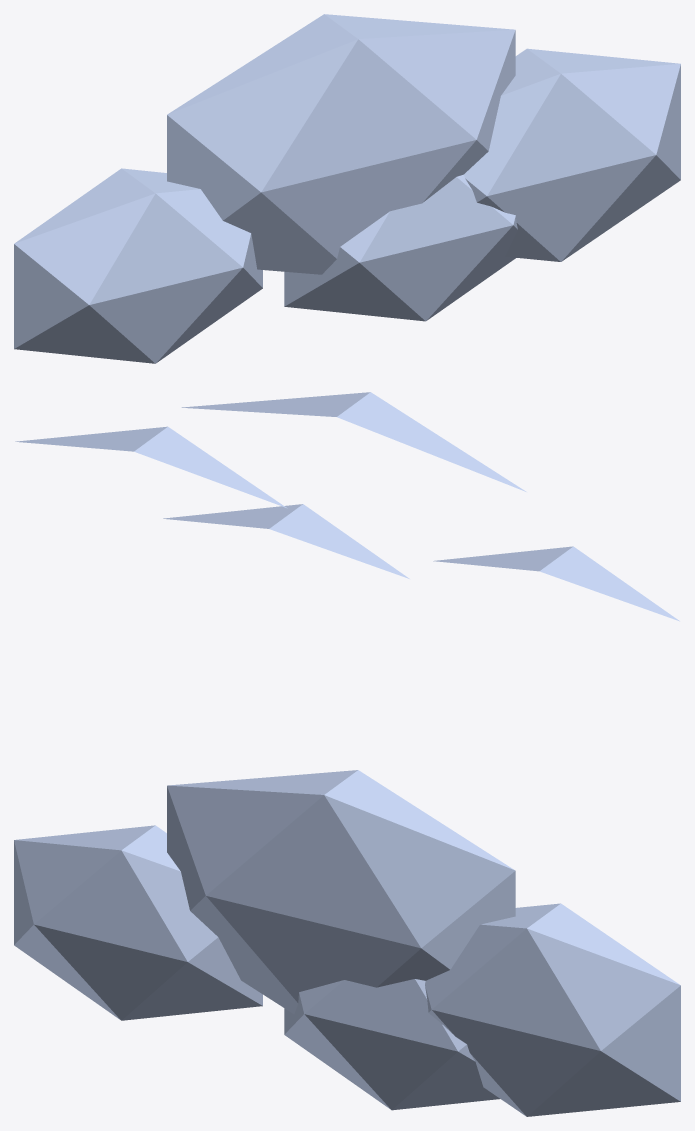
File: cloud.glb
3 views of the same model, one above another, from view 1: azimuth 30°, elevation 25°; view 2: azimuth 150°, elevation 25°; view 3: azimuth 330°, elevation 25° (orthographic).
Visible parts, largest first — view 1: Cloud; view 2: Cloud; view 3: Cloud.
Part boxes in pixels (x1,y1,x2,y2): Cloud: [14, 14, 680, 363]; Cloud: [15, 392, 679, 621]; Cloud: [14, 770, 680, 1116].
Bounding box in the file's own units: 2.96 × 1.27 × 0.3441.
